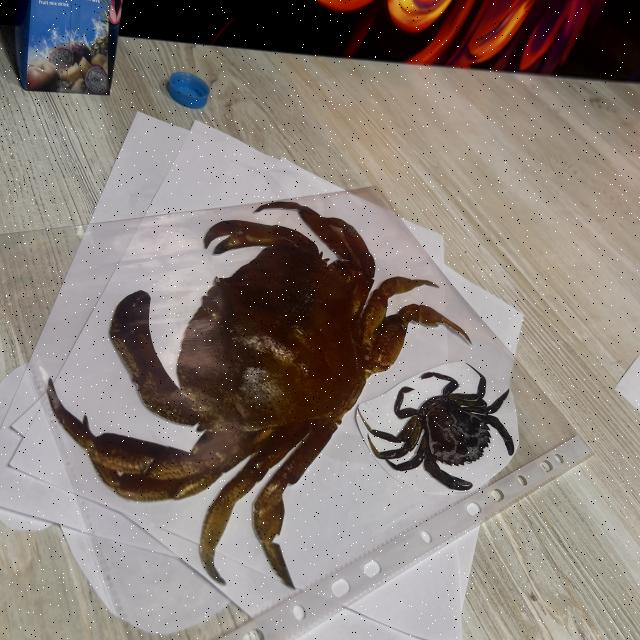European_Green_Crab: (356, 338, 529, 529)
